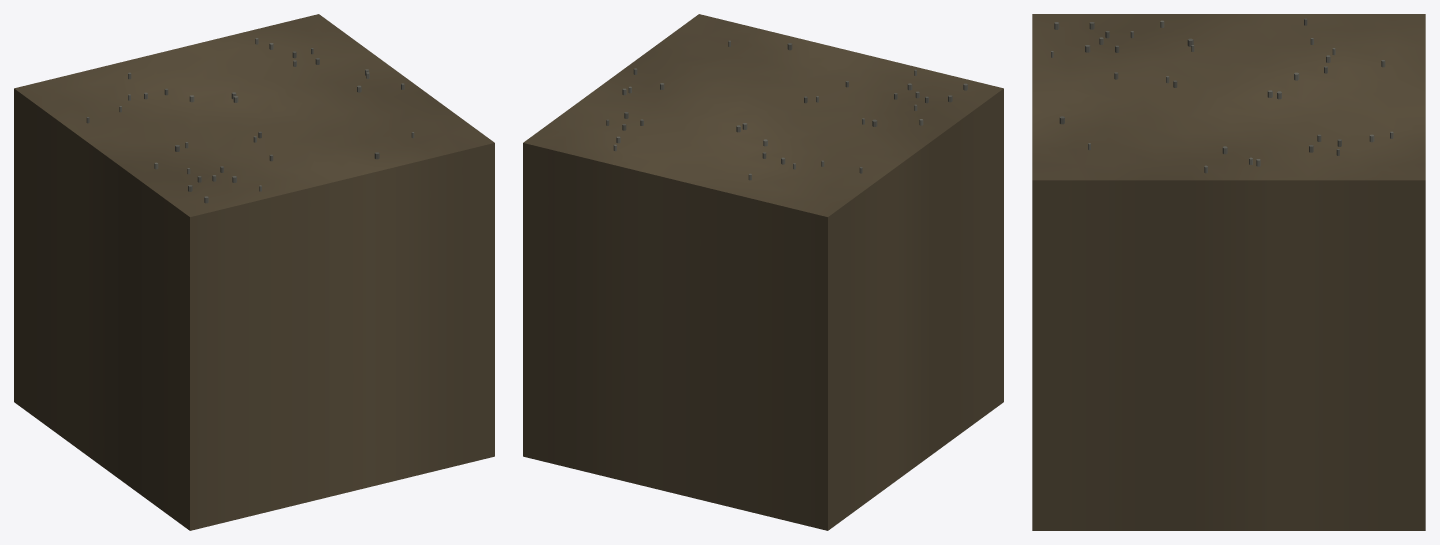
File: SM_Henhouse_YardGround_Stretch100_A.fbx
The picture shows the model from 3 angles, left to right: view 1: azimuth 30°, elevation 25°; view 2: azimuth 150°, elevation 25°; view 3: azimuth 270°, elevation 25°; orthographic projection. The views are drawn at different scales.
Visible parts, largest first — view 1: SM_Henhouse_YardGround_Stretch100_A; view 2: SM_Henhouse_YardGround_Stretch100_A; view 3: SM_Henhouse_YardGround_Stretch100_A.
Part boxes in pixels (x1=…): SM_Henhouse_YardGround_Stretch100_A: x1=14, y1=14, x2=494, y2=530; SM_Henhouse_YardGround_Stretch100_A: x1=523, y1=14, x2=1003, y2=530; SM_Henhouse_YardGround_Stretch100_A: x1=1032, y1=14, x2=1425, y2=530.
Size of what is drawn, in the model's own units: 100 by 100 by 100.
